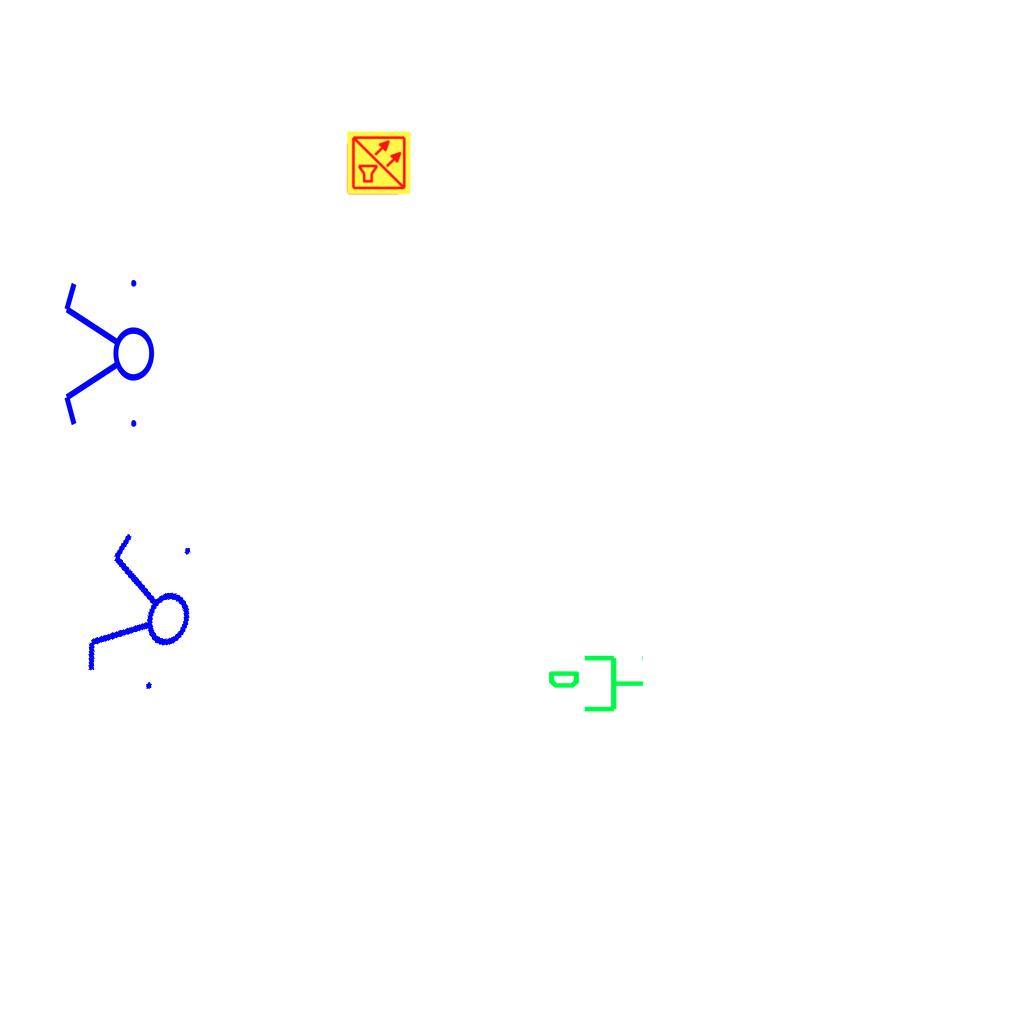Datenanschluss_einfach: (546, 651, 646, 720)
OKW_Multisensormelder_(Kombination_optischer_Rauch-Kahlenmonoxid_Waerme-Melder): (346, 130, 412, 196)
Serienschalter: (73, 519, 213, 707), (60, 271, 156, 439)
